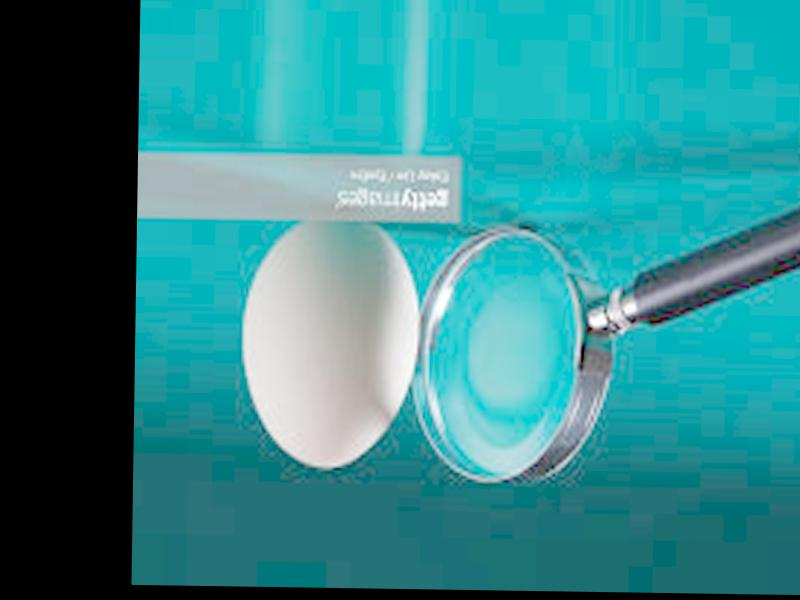Eggs: (240, 215, 421, 470)
